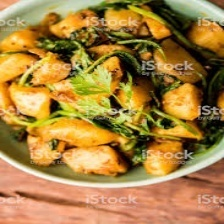sabzi: (1, 0, 224, 186)
